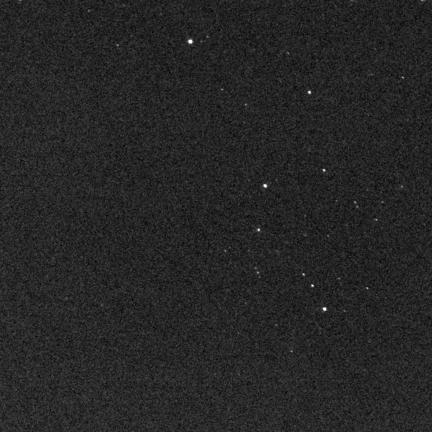blob: (188, 39, 194, 45), (263, 184, 267, 188), (323, 307, 326, 311), (308, 91, 311, 94)
